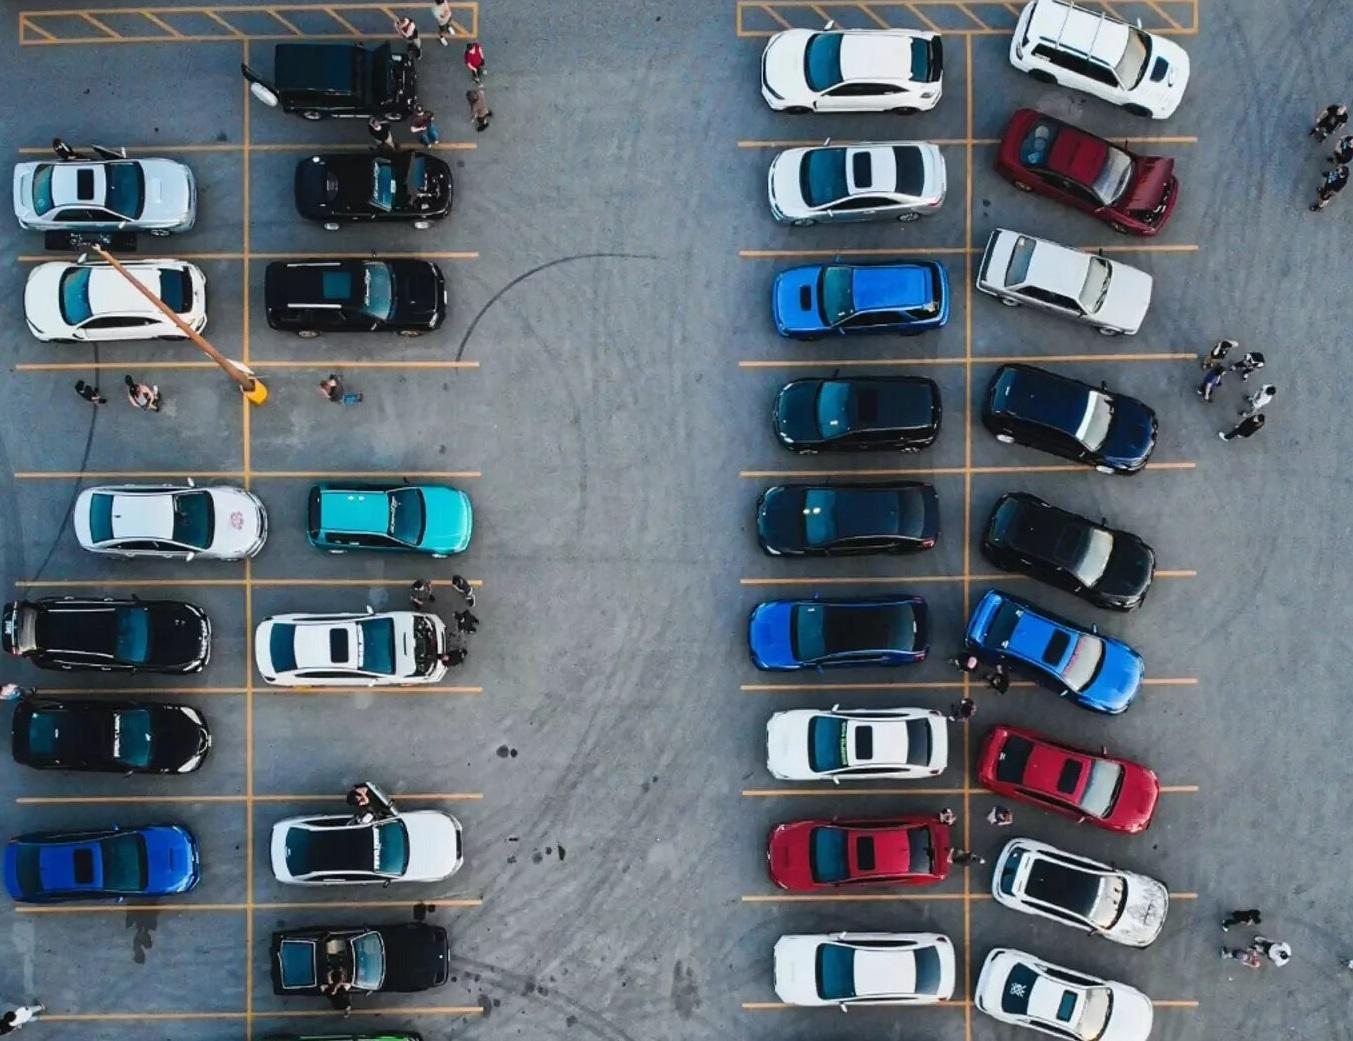occupied: (249, 902, 481, 1015), (968, 356, 1193, 471), (18, 798, 249, 910), (742, 250, 968, 364), (740, 141, 969, 254), (966, 466, 1193, 578), (740, 33, 970, 144), (966, 573, 1194, 685), (250, 796, 481, 907), (247, 473, 480, 583), (743, 361, 968, 473), (969, 248, 1194, 361), (247, 36, 475, 148), (967, 680, 1194, 792), (246, 255, 478, 364), (248, 582, 480, 691), (968, 139, 1194, 250), (247, 145, 476, 256), (19, 691, 249, 800), (18, 583, 249, 691), (969, 31, 1195, 141), (19, 257, 247, 366), (20, 149, 247, 258), (18, 476, 247, 584), (743, 471, 968, 581), (968, 896, 1195, 1004), (744, 578, 967, 688), (744, 685, 967, 794), (967, 788, 1194, 896), (745, 896, 967, 1005), (744, 792, 967, 899)
vacant: (16, 907, 248, 1018), (18, 364, 246, 476), (247, 364, 478, 475), (21, 38, 247, 150), (250, 690, 481, 797)
